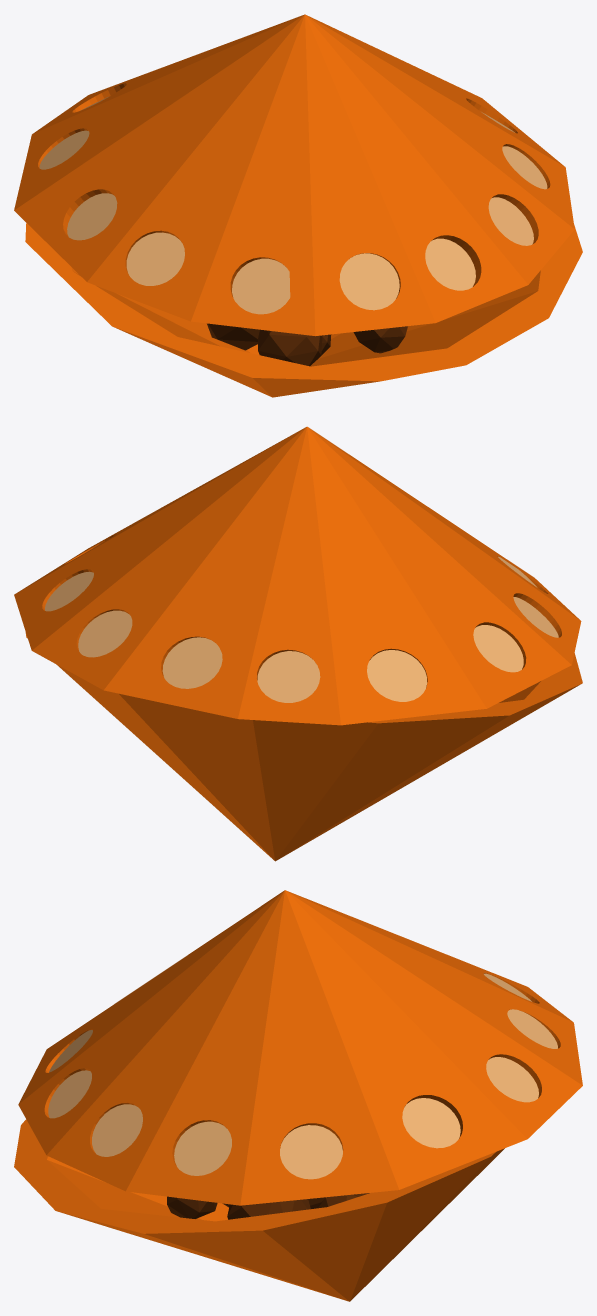
File: volador.fbx
The picture shows the model from 3 angles, top to bottom: view 1: azimuth 30°, elevation 25°; view 2: azimuth 150°, elevation 25°; view 3: azimuth 270°, elevation 25°; orthographic projection.
Visible parts, largest first — view 1: Cone, Cone.001, Icosphere.008; view 2: Cone, Cone.001; view 3: Cone, Cone.001, Icosphere.008.
Part boxes in pixels (<box>): Cone: <box>14,14,574,336</box>; Cone.001: <box>25,223,582,397</box>; Icosphere.008: <box>207,323,407,366</box>; Cone: <box>14,426,581,725</box>; Cone.001: <box>25,632,582,861</box>; Cone: <box>18,890,582,1205</box>; Cone.001: <box>14,1119,504,1301</box>; Icosphere.008: <box>167,1193,369,1219</box>.
Bounding box in the file's own units: 214 × 172 × 215.
